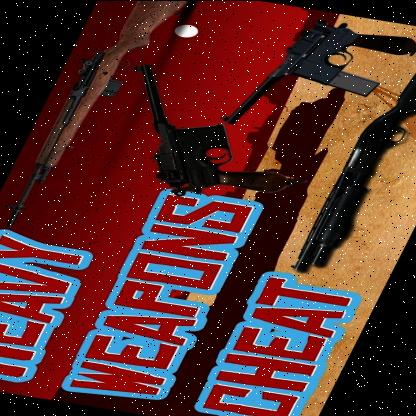rifle: (0, 0, 198, 238), (282, 30, 416, 282)
